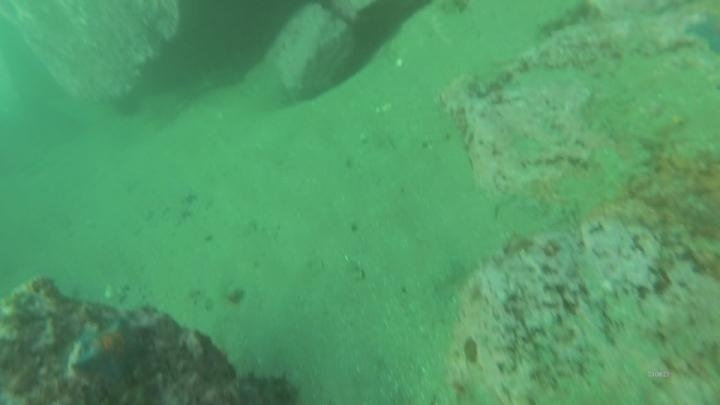starfish: (71, 317, 151, 385), (681, 11, 720, 57)
